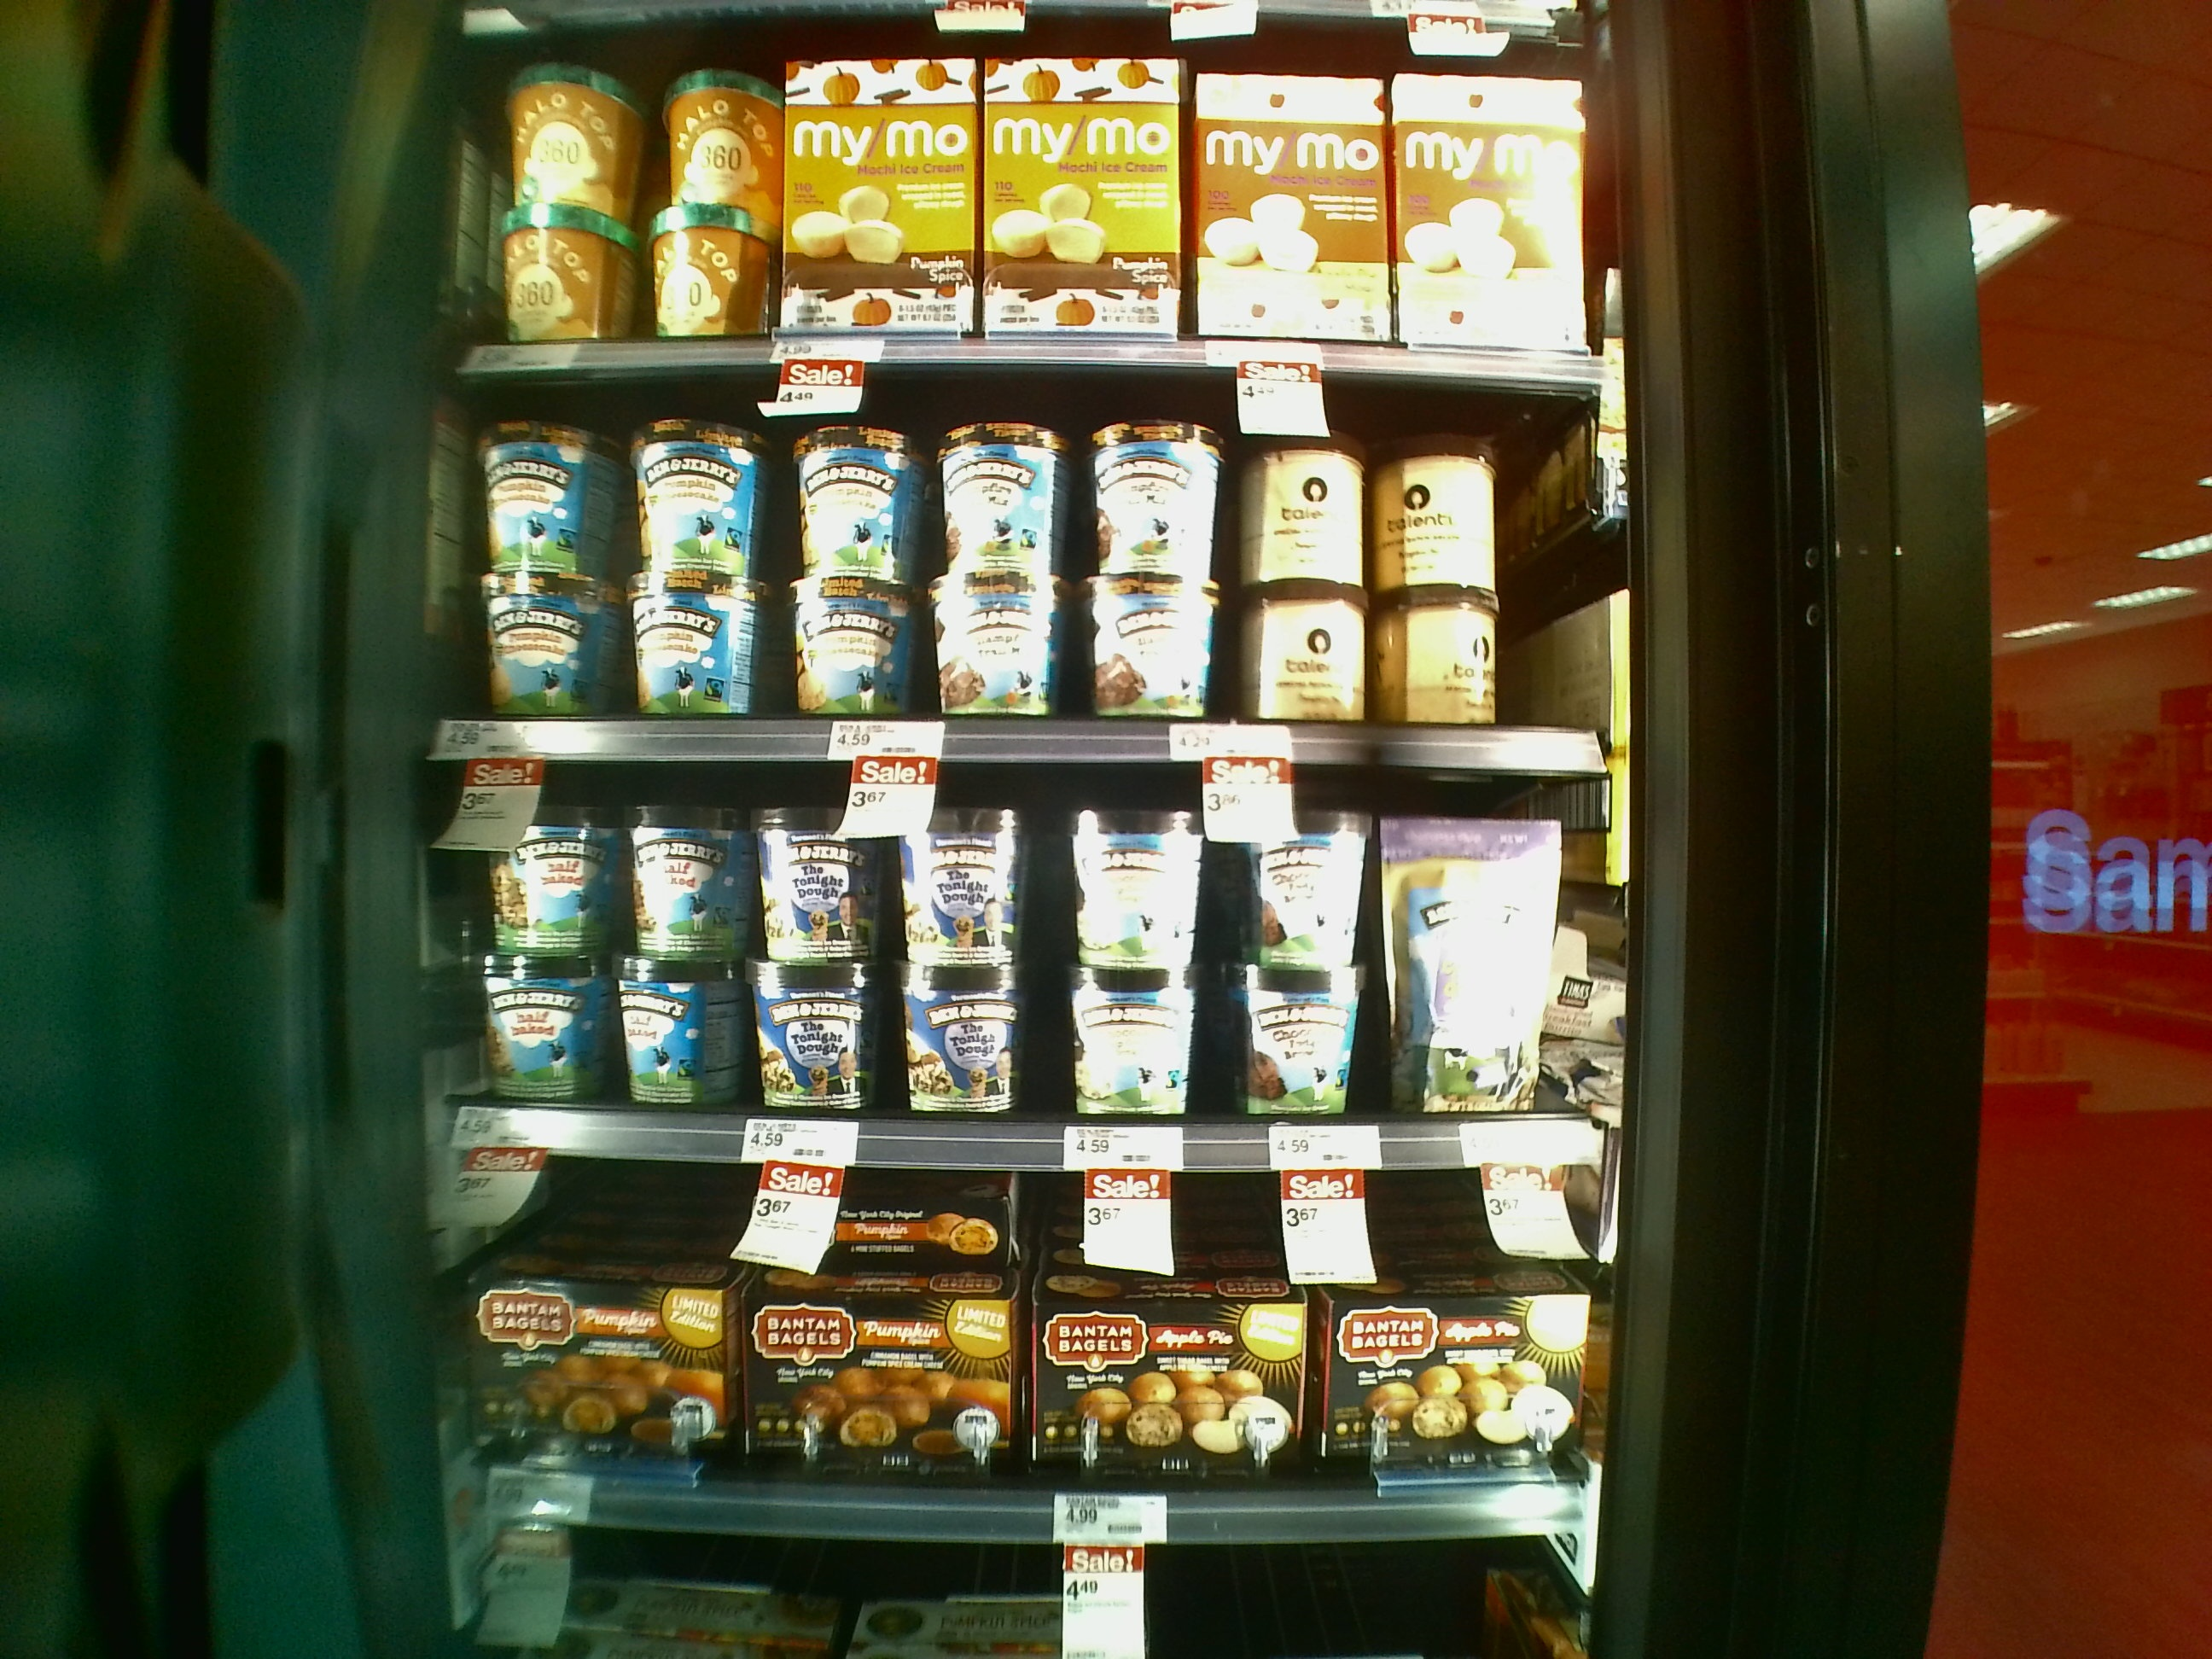shelf: (409, 708, 1583, 1161), (413, 1091, 1609, 1521), (467, 354, 1599, 758)
